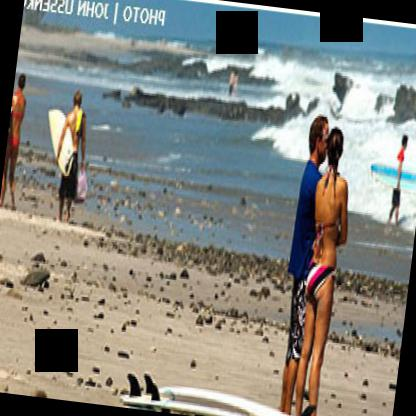handbag: (74, 169, 87, 202)
